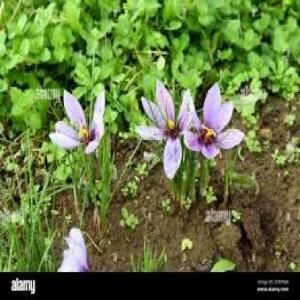Saffron: (137, 80, 187, 171), (183, 86, 234, 161), (57, 91, 106, 151)
